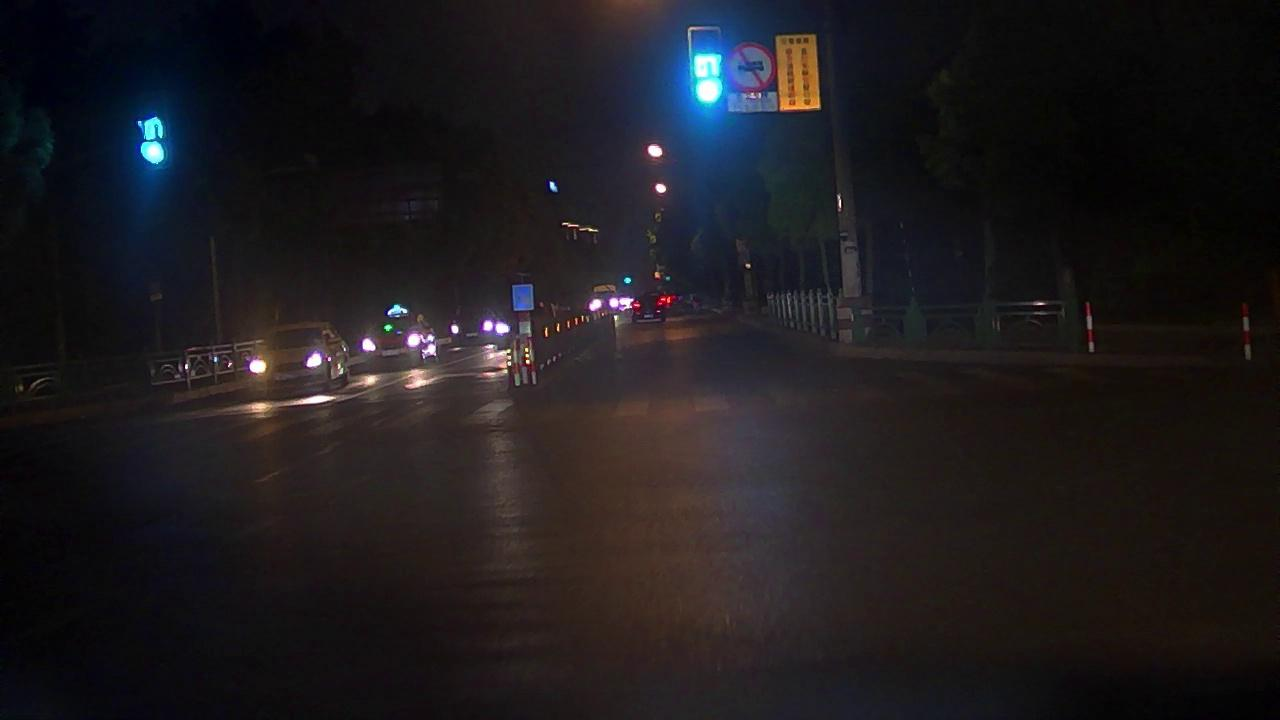traffic_light: (128, 101, 172, 166), (690, 29, 724, 111)
